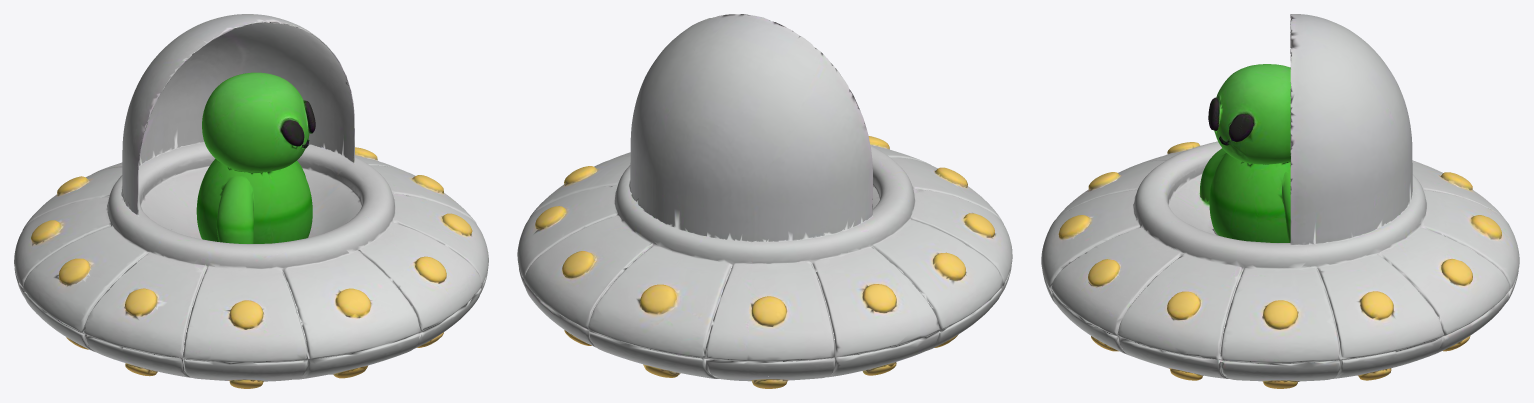
The model's file is alien.glb.
The picture shows the model from 3 angles, left to right: view 1: azimuth 30°, elevation 25°; view 2: azimuth 150°, elevation 25°; view 3: azimuth 270°, elevation 25°; orthographic projection. The views are drawn at different scales.
Visible parts, largest first — view 1: tripo_node_1b25c9d6-4d37-4fce-8793-79eae2f8db17; view 2: tripo_node_1b25c9d6-4d37-4fce-8793-79eae2f8db17; view 3: tripo_node_1b25c9d6-4d37-4fce-8793-79eae2f8db17.
Boxes of the visible parts, box(x1,y1,x2,y2) form: tripo_node_1b25c9d6-4d37-4fce-8793-79eae2f8db17: box(14, 14, 488, 388); tripo_node_1b25c9d6-4d37-4fce-8793-79eae2f8db17: box(517, 14, 1012, 388); tripo_node_1b25c9d6-4d37-4fce-8793-79eae2f8db17: box(1041, 14, 1519, 388).
Size of the model in its own units: 0.9798 by 0.7719 by 0.978.
Materials: 1 (1 with a texture image).
